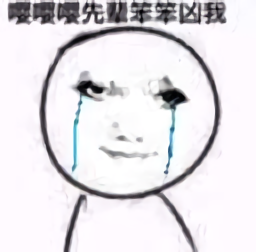dragon: (71, 66, 191, 170)
